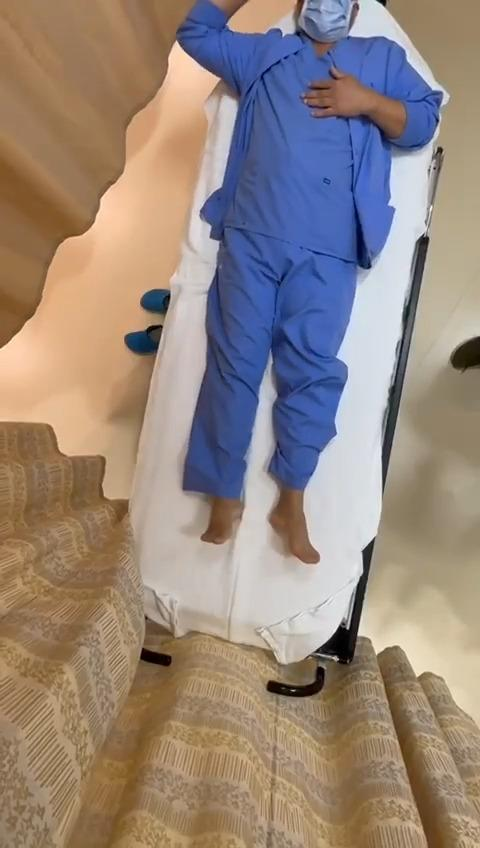bed: (130, 0, 446, 663)
patient: (183, 19, 443, 562)
